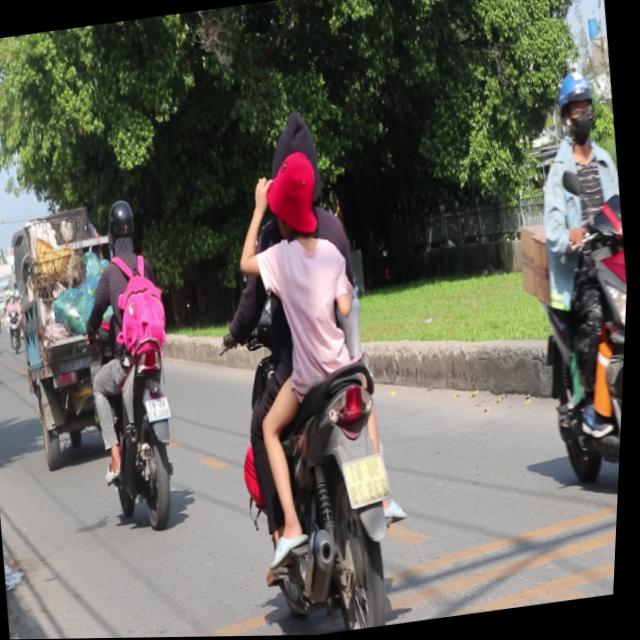helmet: (263, 112, 328, 199), (551, 69, 603, 150), (103, 194, 143, 257)
licenseplate: (191, 100, 434, 638), (484, 62, 638, 513), (66, 188, 202, 534)
motorcyclist: (261, 148, 327, 249)
nohelmet: (345, 452, 395, 507), (147, 393, 175, 421)
